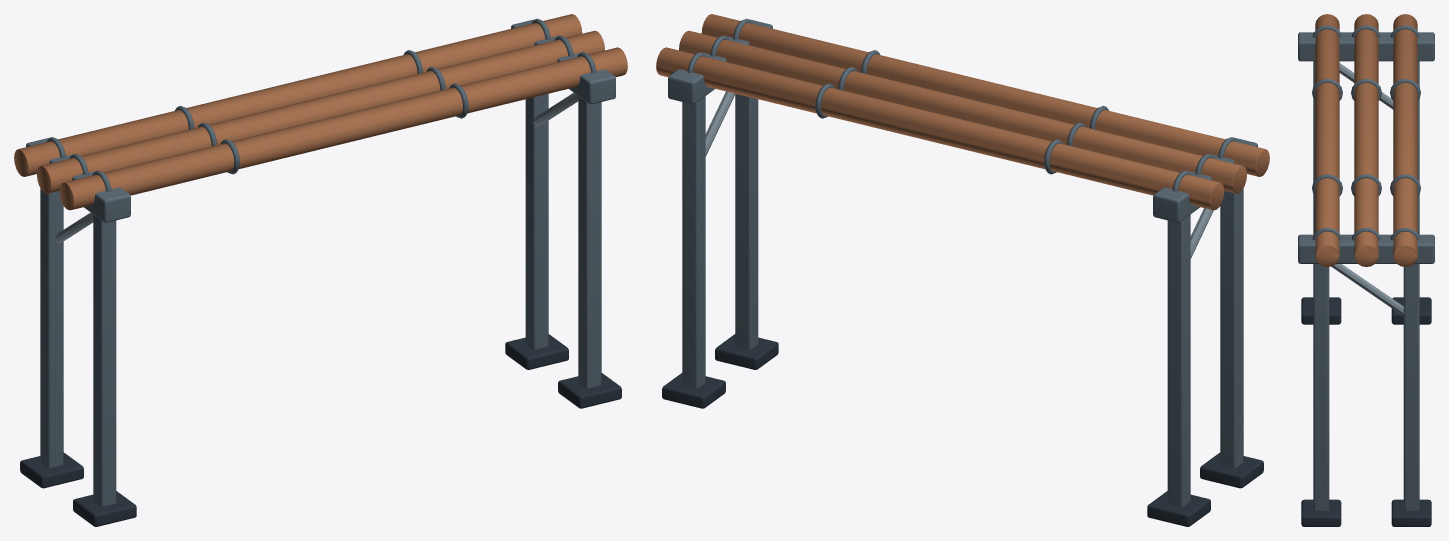
The model's file is foundry_pipe_rack.fbx.
The picture shows the model from 3 angles, left to right: view 1: azimuth 30°, elevation 25°; view 2: azimuth 150°, elevation 25°; view 3: azimuth 270°, elevation 25°; orthographic projection. The views are drawn at different scales.
Parts seen in each view (by area): view 1: foundry_pipe_rack_Geometry; view 2: foundry_pipe_rack_Geometry; view 3: foundry_pipe_rack_Geometry.
Part boxes in pixels (x1,y1,x2,y2): foundry_pipe_rack_Geometry: [14, 14, 627, 526]; foundry_pipe_rack_Geometry: [656, 14, 1269, 526]; foundry_pipe_rack_Geometry: [1298, 14, 1434, 526].
Size of the model in its own units: 8 by 4.7 by 2.
